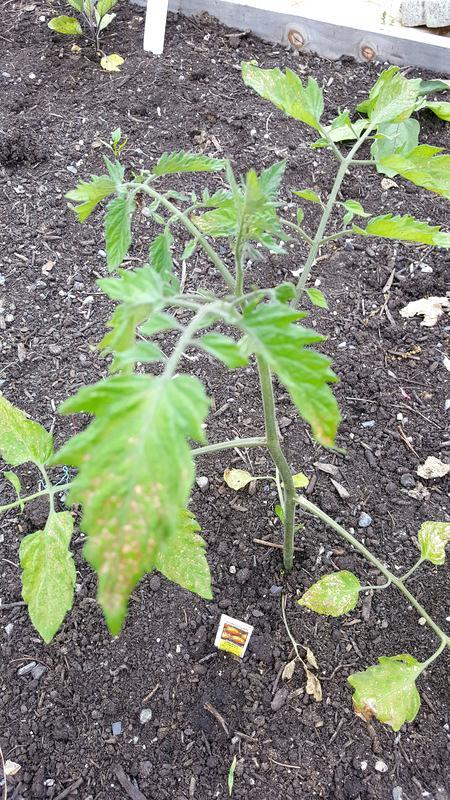Bacterial Spot: (70, 340, 216, 642), (232, 296, 354, 451), (234, 54, 329, 141), (351, 63, 415, 140)
